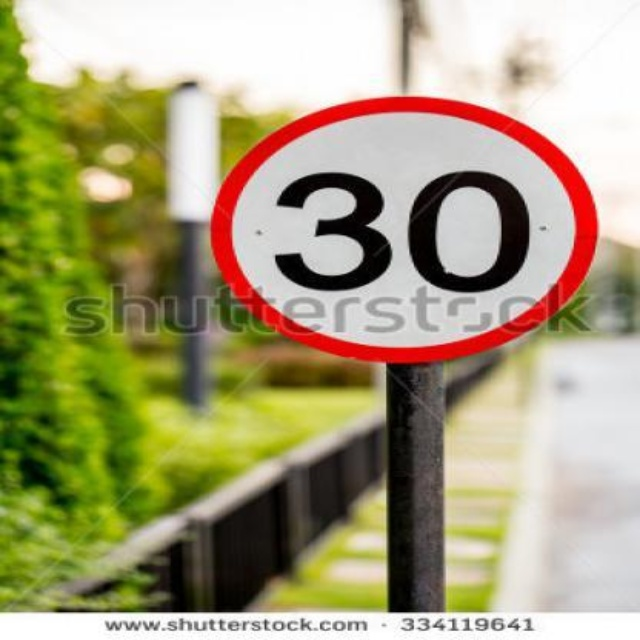Tốc độ tối đa cho phép 30km/h: (211, 93, 594, 353)
